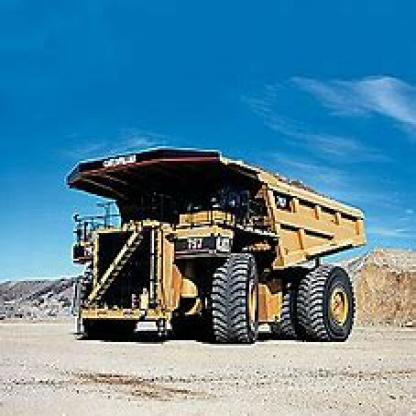dump_truck: (55, 141, 372, 353)
